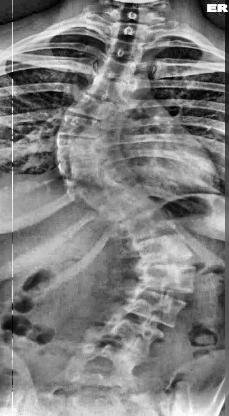Vertebrae: (62, 343, 138, 387), (94, 316, 166, 354), (120, 286, 188, 326), (92, 188, 158, 224), (134, 261, 200, 297), (131, 232, 195, 268), (68, 172, 130, 206), (116, 211, 178, 243), (51, 134, 111, 166), (58, 154, 122, 184), (58, 115, 110, 144), (64, 94, 114, 122), (85, 72, 131, 102), (96, 55, 139, 81), (104, 38, 148, 62), (110, 21, 154, 43)
